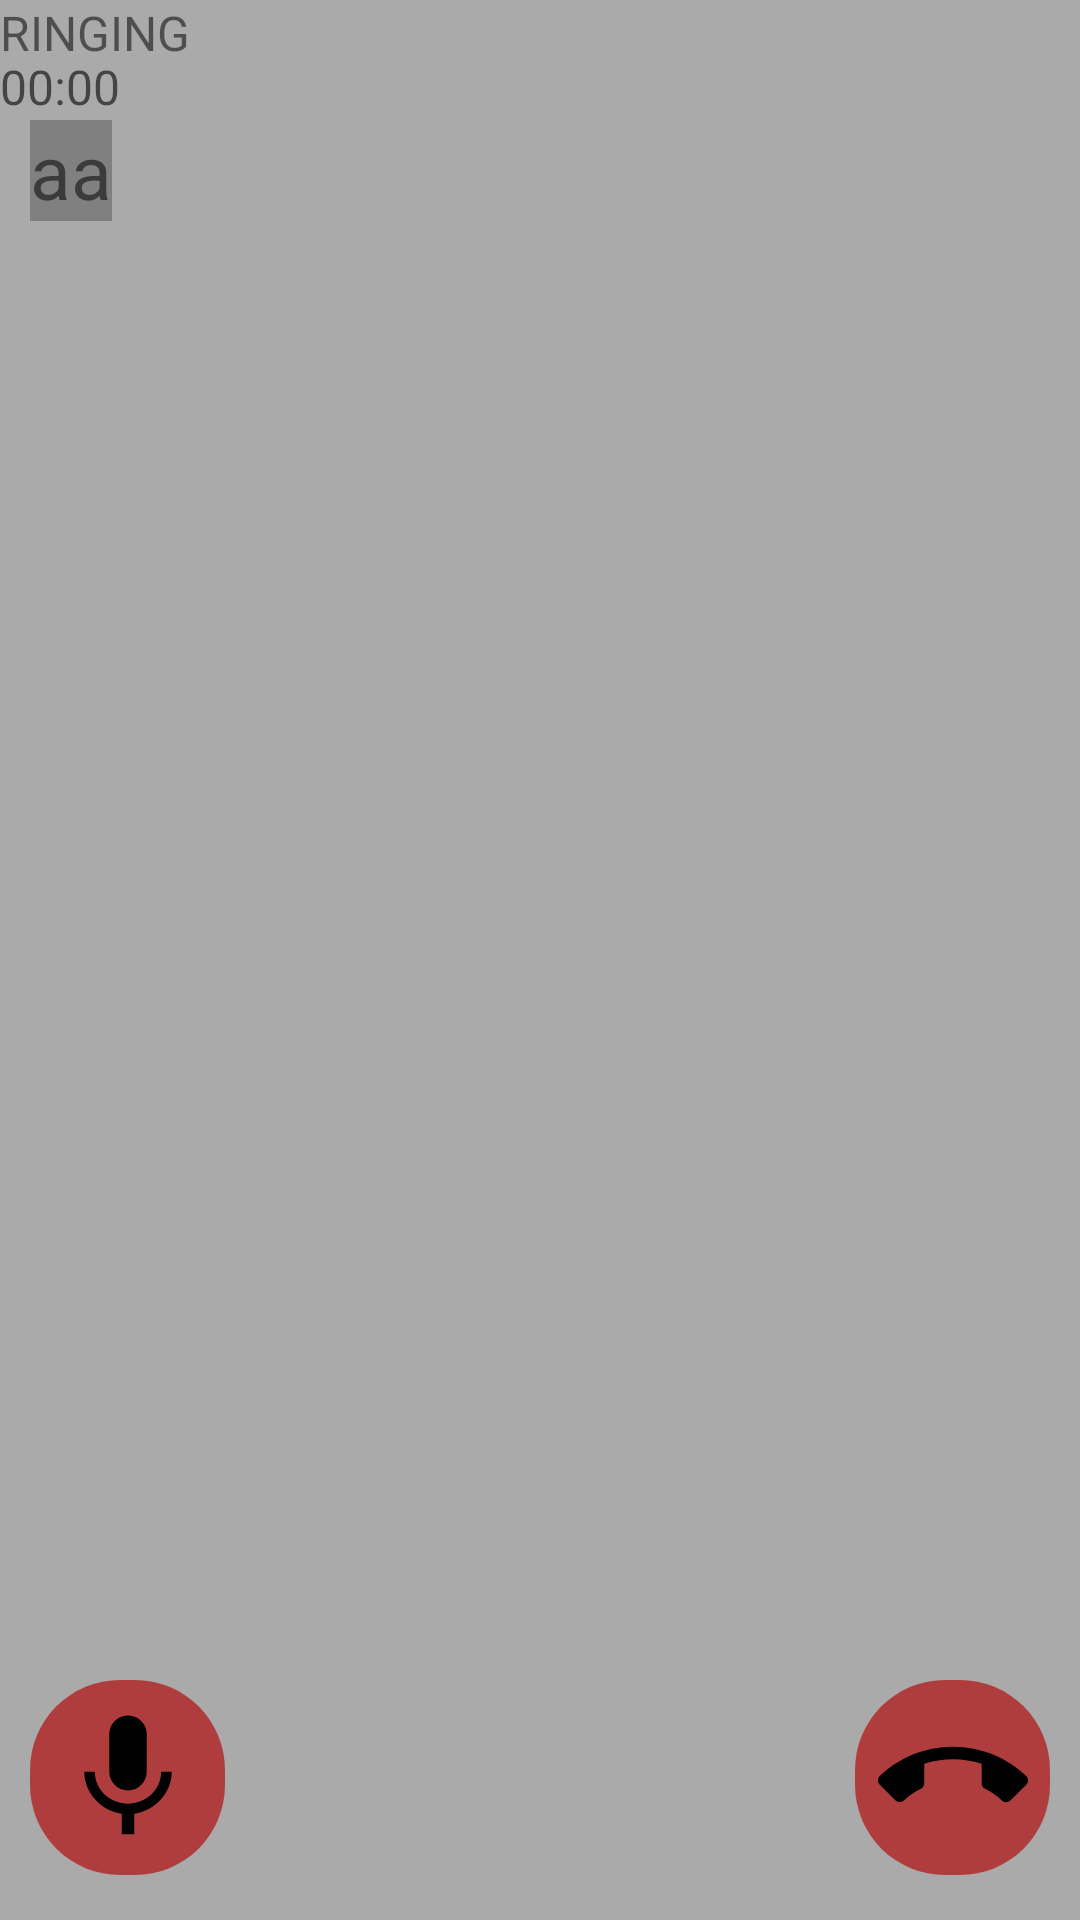

Icon bounding boxes for this 1080×1920 phone screenshot, format (x1, y1, x2, y2):
call end: (855, 1680, 1050, 1875)
mic: (30, 1680, 225, 1875)
